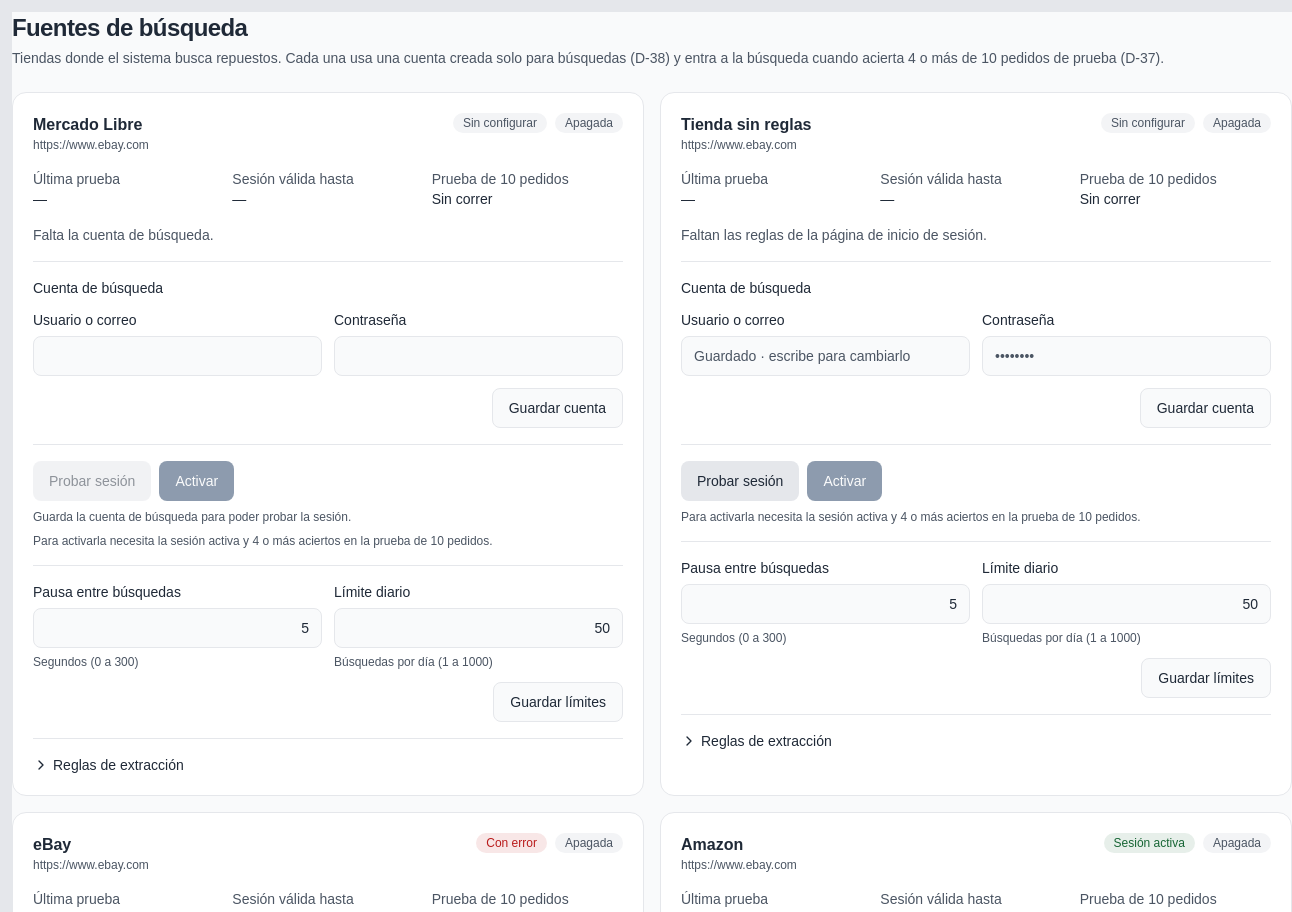
Configuración > Fuentes de búsqueda (L2, BPMN 9-A) › no envía la cuenta vacía
The width and height of the screenshot is (1292, 912).
What coordinates should you click on to do the following:
click the 1st button "Guardar cuenta"
I would click on:
 (557, 408)
Its box is [492,388,623,428].
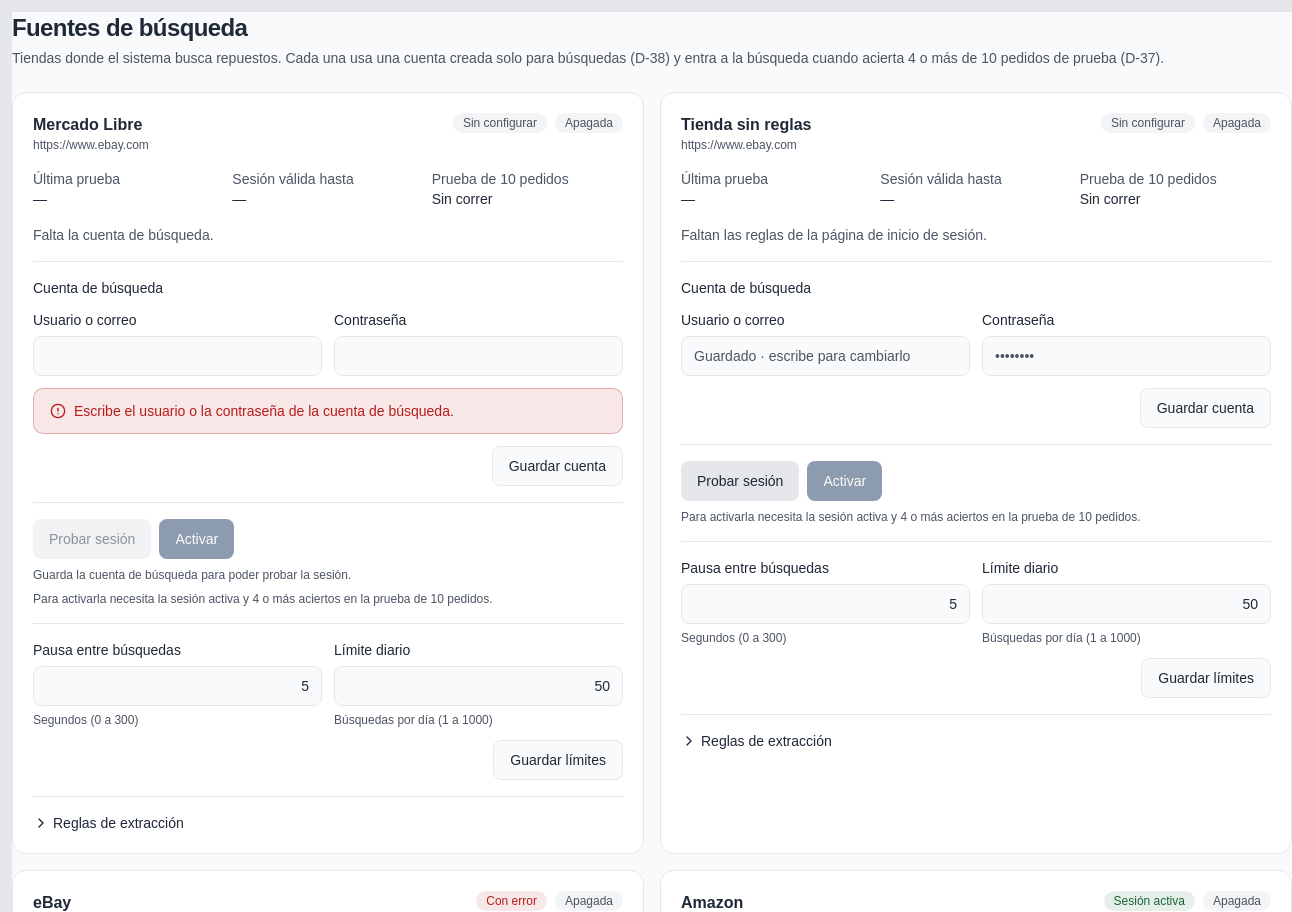
Now the text "Escribe el usuario o la contraseña de la cuenta de búsqueda." is shown, box [74,401,454,421]
